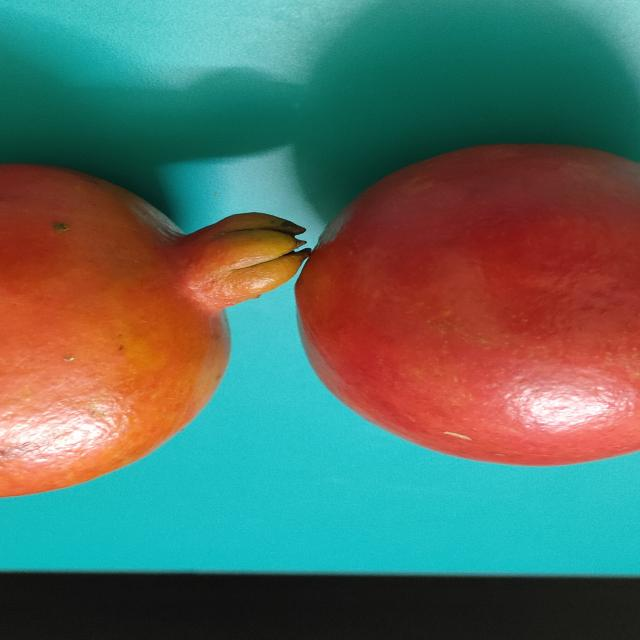Good_Pomegranate-50-60-days: (0, 144, 640, 499)
